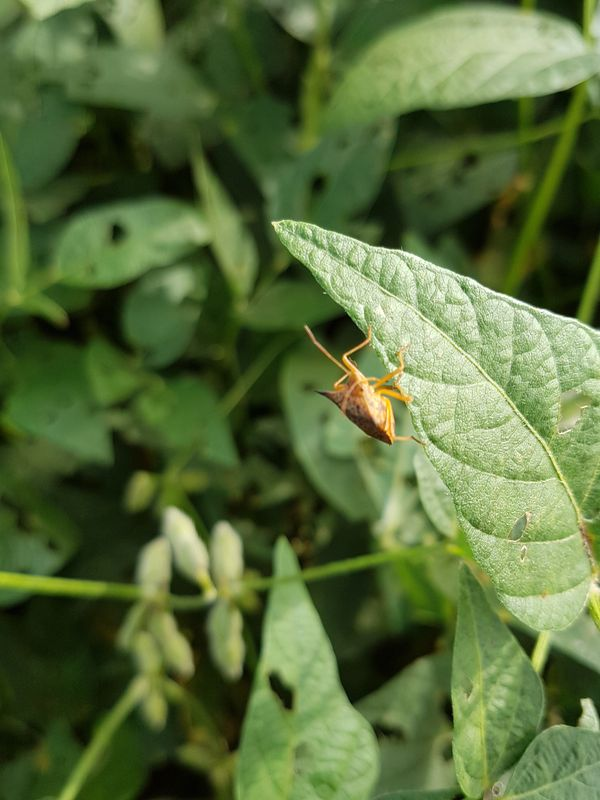Euschistus_heros_adulto: (293, 312, 439, 461)
